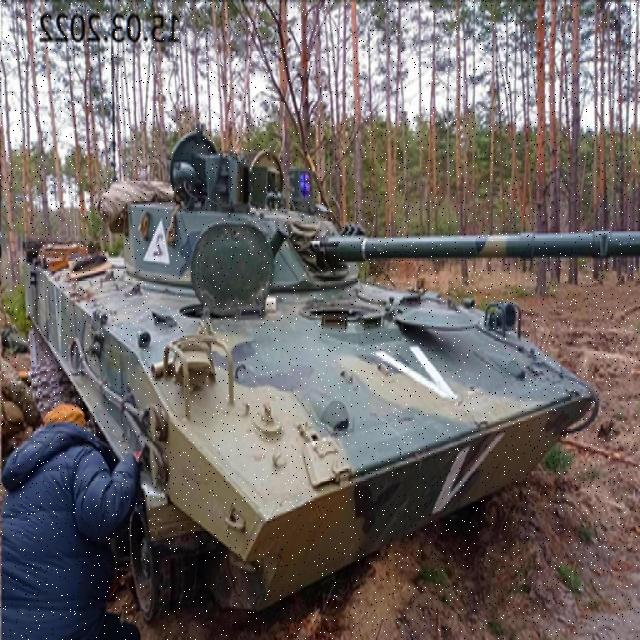APC-IFV: (25, 122, 606, 611)
